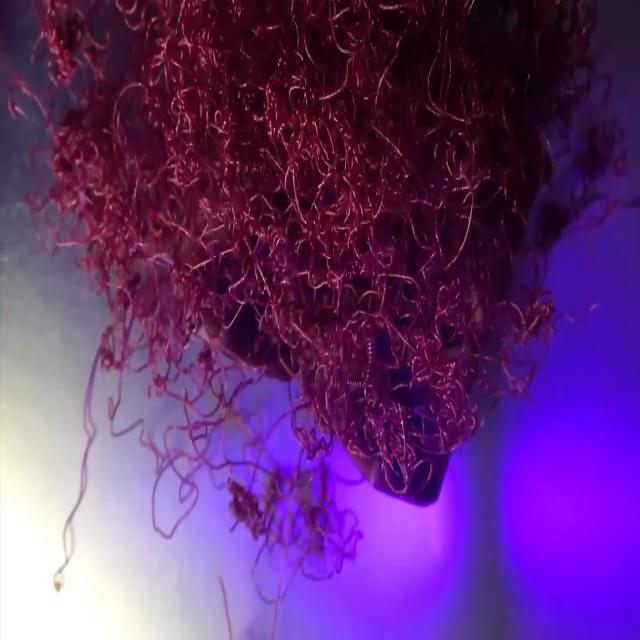spaghetti: (0, 0, 629, 631)
